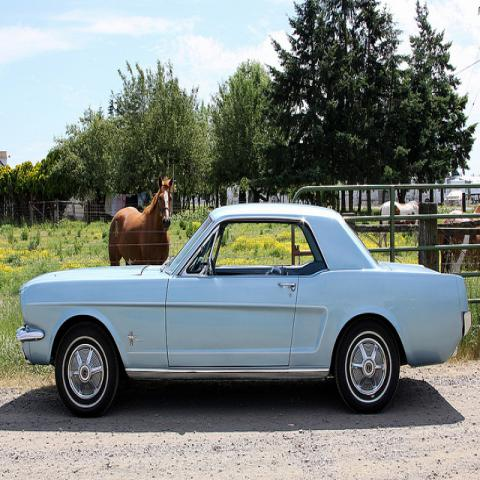car: (19, 201, 467, 419)
